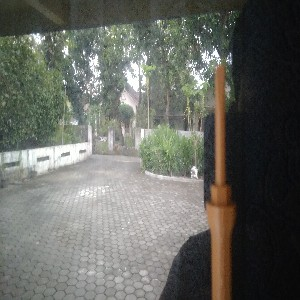obeng: (206, 65, 235, 300)
